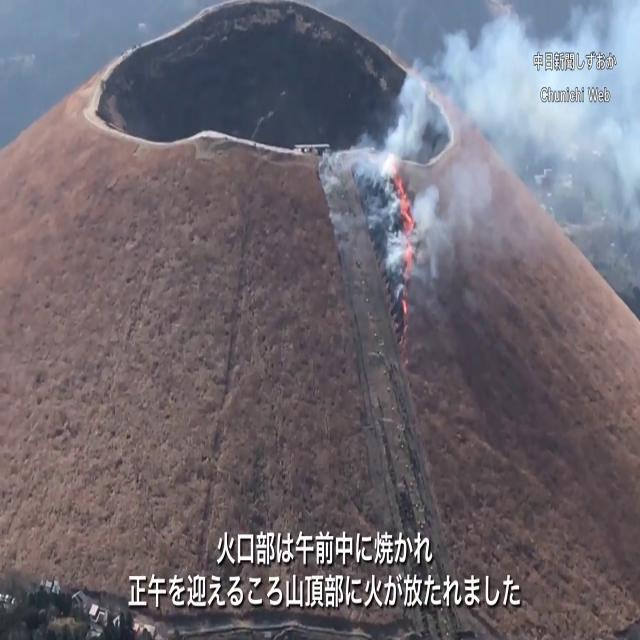Smoke: (371, 0, 640, 278)
